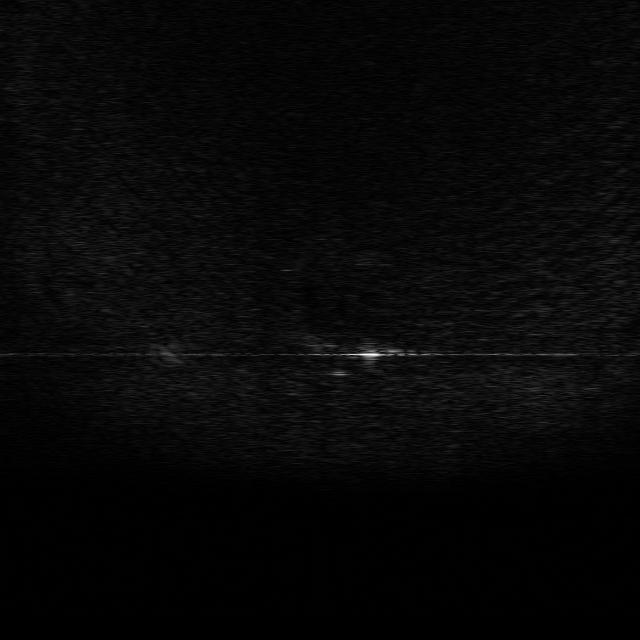plane: (311, 331, 414, 370)
